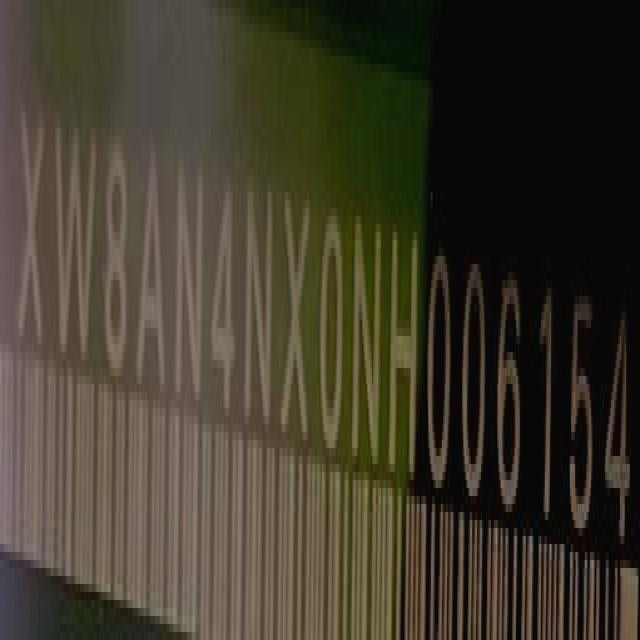0: (425, 236, 454, 499), (462, 245, 489, 508), (320, 199, 346, 463)
1: (535, 274, 556, 536)
4: (605, 295, 636, 559), (212, 164, 236, 424)
5: (570, 281, 597, 547)
6: (498, 261, 527, 519)
8: (106, 135, 130, 384)
A: (139, 144, 168, 401)
H: (392, 215, 419, 484)
N: (352, 213, 384, 474), (243, 175, 273, 441), (178, 150, 208, 414)
W: (52, 111, 98, 373)
X: (283, 181, 314, 451), (18, 100, 46, 358)
